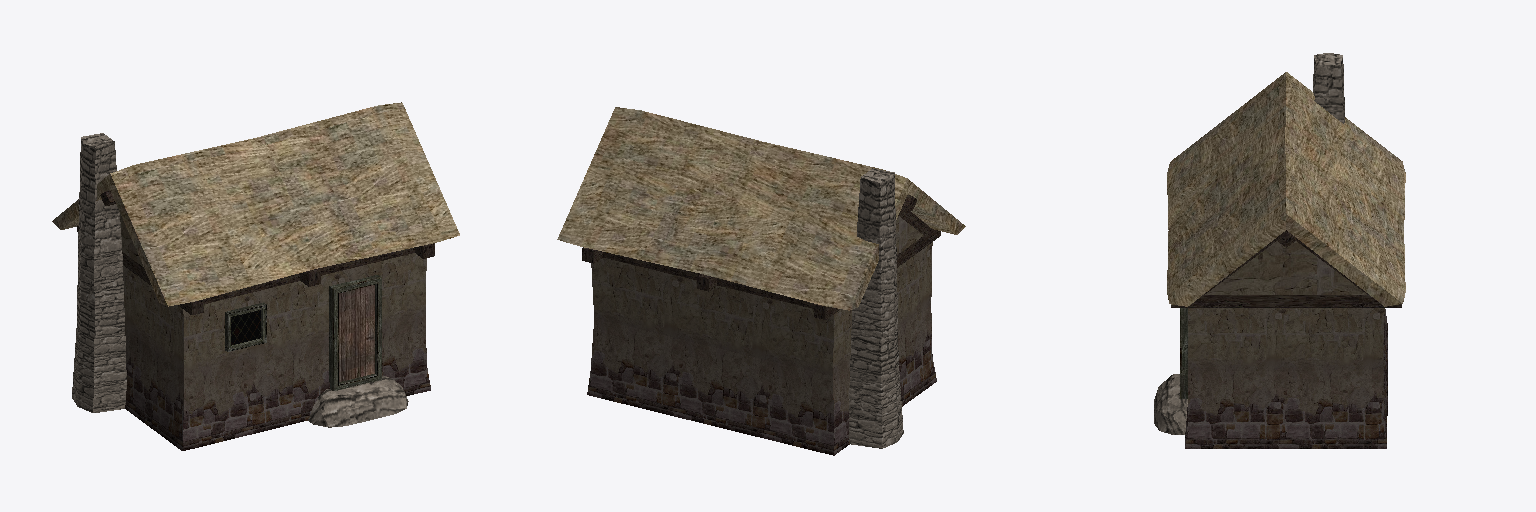
3 views of the same model, side by side, from view 1: azimuth 30°, elevation 25°; view 2: azimuth 150°, elevation 25°; view 3: azimuth 270°, elevation 25° (orthographic).
Visible parts, largest first — view 1: Cube; view 2: Cube; view 3: Cube.
Boxes of the visible parts, x1=… form: Cube: x1=52, y1=102, x2=459, y2=450; Cube: x1=557, y1=107, x2=965, y2=455; Cube: x1=1154, y1=53, x2=1405, y2=448.
Size of the model in its own units: 12.66 by 10.28 by 8.95.
Materials: 1 (1 with a texture image).